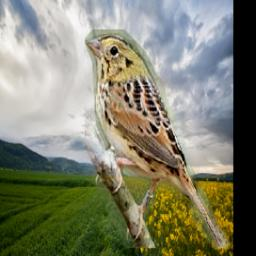Sparrow: (85, 31, 230, 249)
